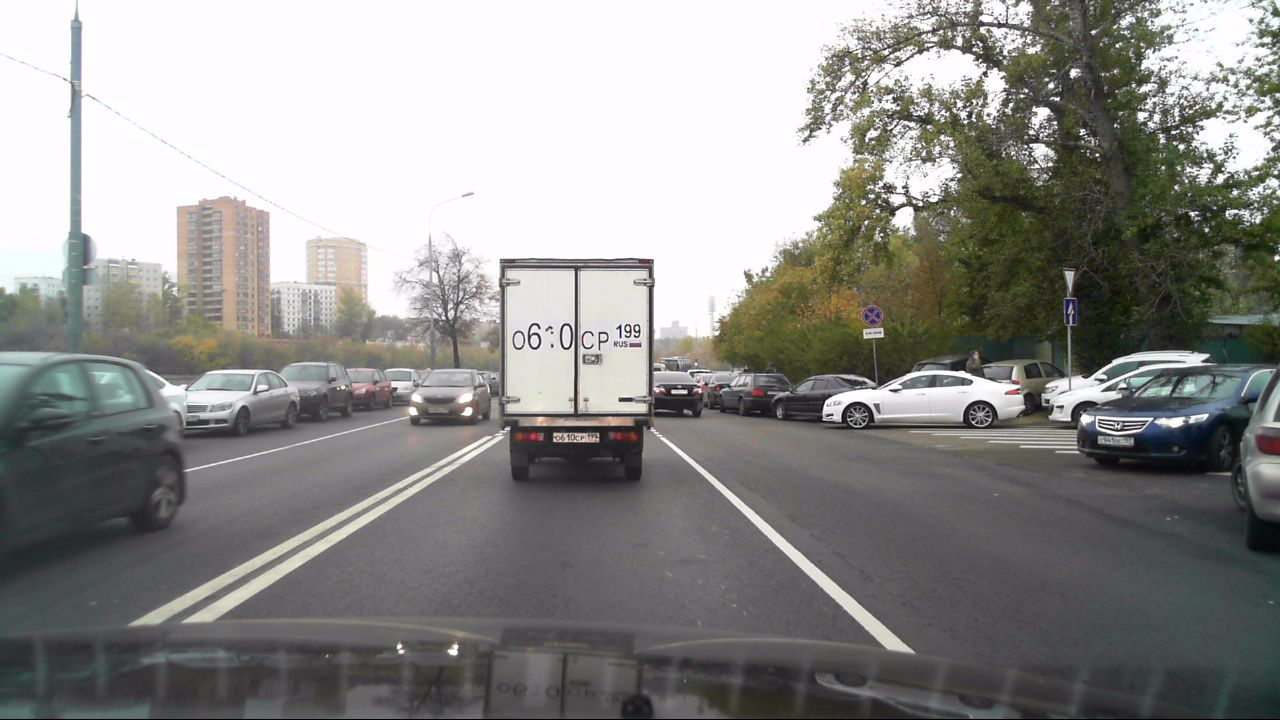No Parking: (861, 304, 883, 326)
